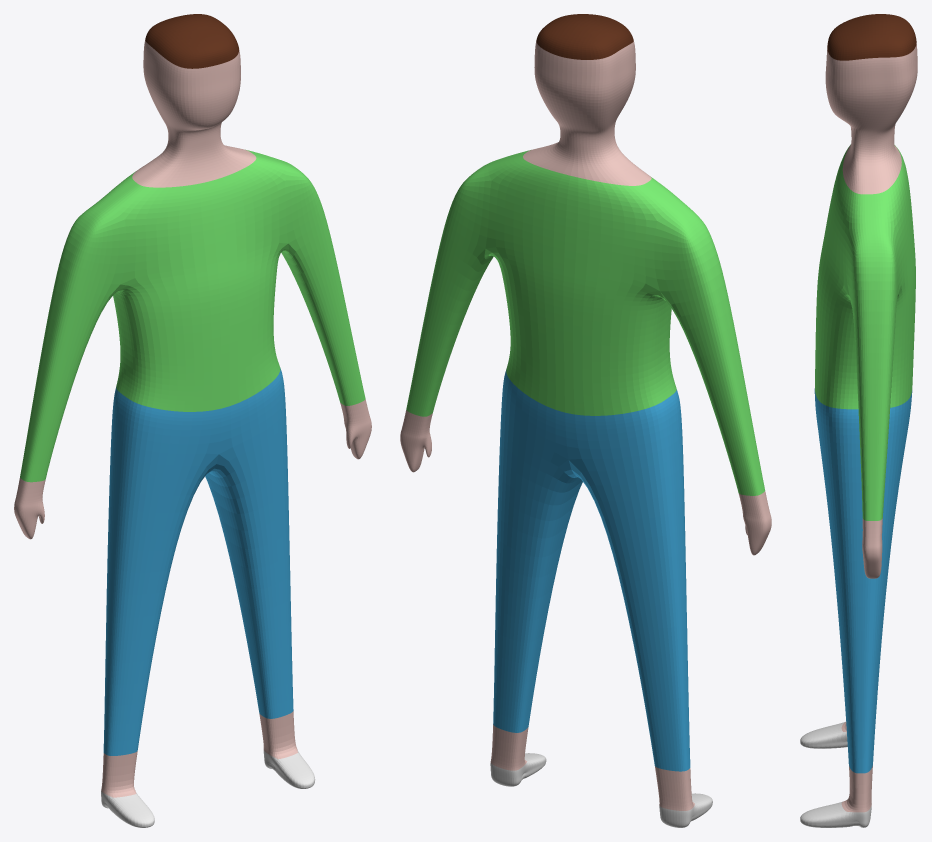
Rendered from BasonJourne.fbx.
The picture shows the model from 3 angles, left to right: view 1: azimuth 30°, elevation 25°; view 2: azimuth 150°, elevation 25°; view 3: azimuth 270°, elevation 25°; orthographic projection. The views are drawn at different scales.
Parts seen in each view (by area): view 1: Cube; view 2: Cube; view 3: Cube.
Boxes of the visible parts, x1,y1,x2,y2 form: Cube: [14, 14, 371, 827]; Cube: [400, 14, 771, 827]; Cube: [800, 14, 917, 827].
Bounding box in the file's own units: 425 × 873 × 122.
